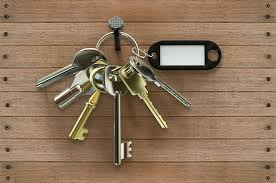kicharina: (104, 64, 134, 168)
